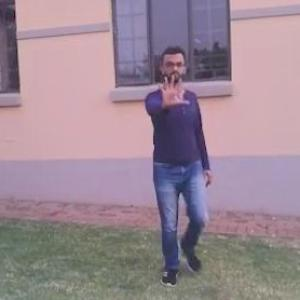follow_hand: (154, 68, 192, 108)
